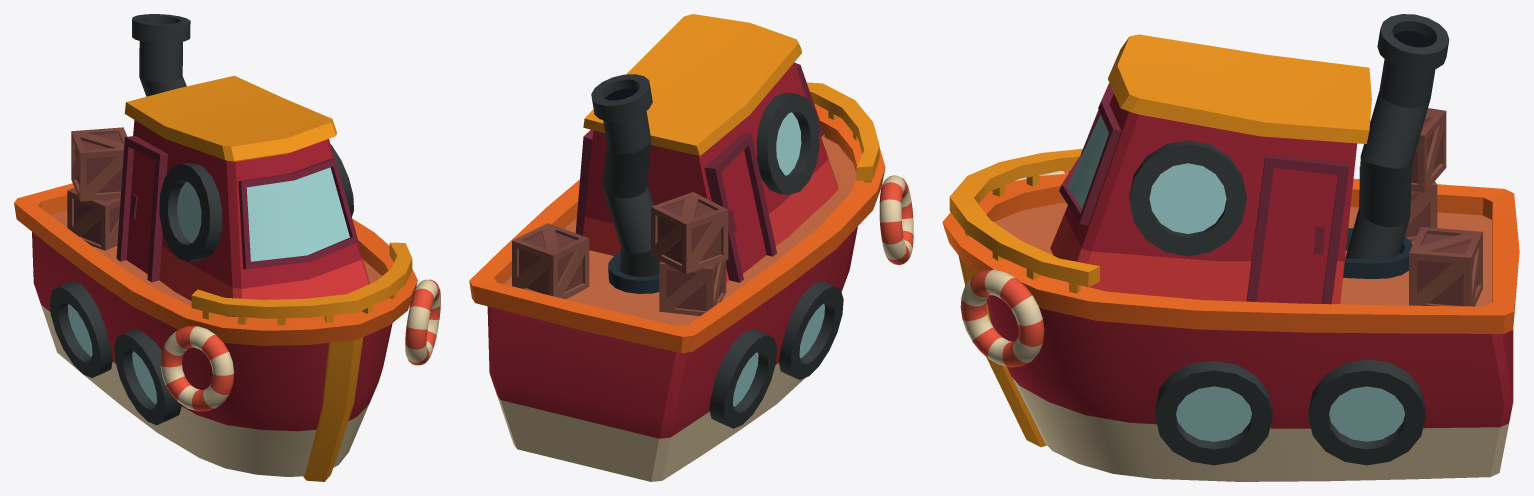
Rendered from Boat.fbx.
The picture shows the model from 3 angles, left to right: view 1: azimuth 30°, elevation 25°; view 2: azimuth 150°, elevation 25°; view 3: azimuth 270°, elevation 25°; orthographic projection. The views are drawn at different scales.
Visible parts, largest first — view 1: Cube, Cube.001, Cube.002, Cylinder.003, Cube.003, Cube.004, Cube.009, Cylinder.002, Torus.001, Cylinder.001, Cylinder.004, Cube.008 (+2 smaller); view 2: Cube, Cube.001, Cylinder.004, Cube.003, Cylinder.003, Cube.008, Cube.006, Cylinder.002, Cylinder.001, Cube.007, Torus.001, Cube.004 (+1 smaller); view 3: Cube, Cube.001, Cylinder.004, Cube.003, Cylinder.003, Cylinder.002, Cylinder.001, Cube.004, Cube.006, Torus, Cube.002, Cube.008 (+3 smaller).
Boxes of the visible parts, x1,y1,x2,y2 form: Cube: [14, 183, 417, 476]; Cube.001: [124, 75, 369, 317]; Cube.002: [238, 158, 358, 269]; Cylinder.003: [159, 144, 353, 261]; Cube.003: [116, 136, 167, 282]; Cube.004: [191, 242, 412, 318]; Cube.009: [303, 337, 363, 481]; Cylinder.002: [49, 280, 112, 377]; Torus.001: [160, 326, 234, 411]; Cylinder.001: [114, 329, 181, 425]; Cylinder.004: [132, 14, 190, 96]; Cube.008: [71, 127, 127, 201]; Cube: [469, 103, 885, 481]; Cube.001: [583, 14, 838, 281]; Cylinder.004: [591, 74, 660, 276]; Cube.003: [575, 130, 776, 282]; Cylinder.003: [756, 93, 819, 194]; Cube.008: [651, 192, 728, 273]; Cube.006: [512, 223, 589, 299]; Cylinder.002: [709, 329, 776, 428]; Cylinder.001: [778, 280, 843, 379]; Cube.007: [659, 260, 726, 316]; Torus.001: [879, 175, 913, 264]; Cube.004: [806, 82, 879, 180]; Cube: [942, 173, 1519, 481]; Cube.001: [1050, 34, 1371, 303]; Cylinder.004: [1345, 14, 1449, 259]; Cube.003: [1246, 154, 1349, 304]; Cylinder.003: [1129, 140, 1246, 256]; Cylinder.002: [1308, 359, 1425, 465]; Cylinder.001: [1155, 361, 1272, 465]; Cube.004: [949, 148, 1100, 287]; Cube.006: [1409, 227, 1482, 306]; Torus: [960, 269, 1044, 367]; Cube.002: [1059, 83, 1121, 225]; Cube.008: [1370, 108, 1446, 192].
Bounding box in the file's own units: 260 × 426 × 337.
